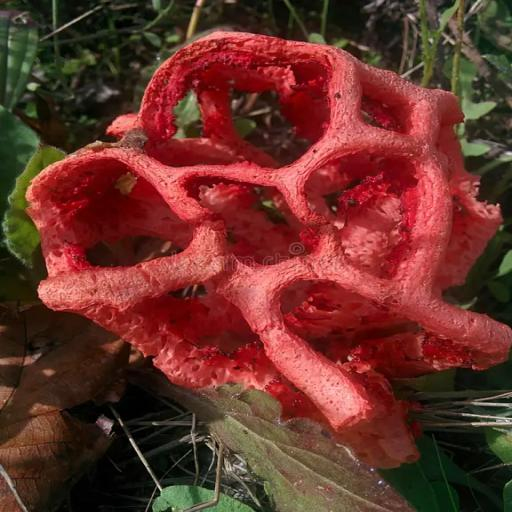mushroom: (29, 25, 512, 440)
